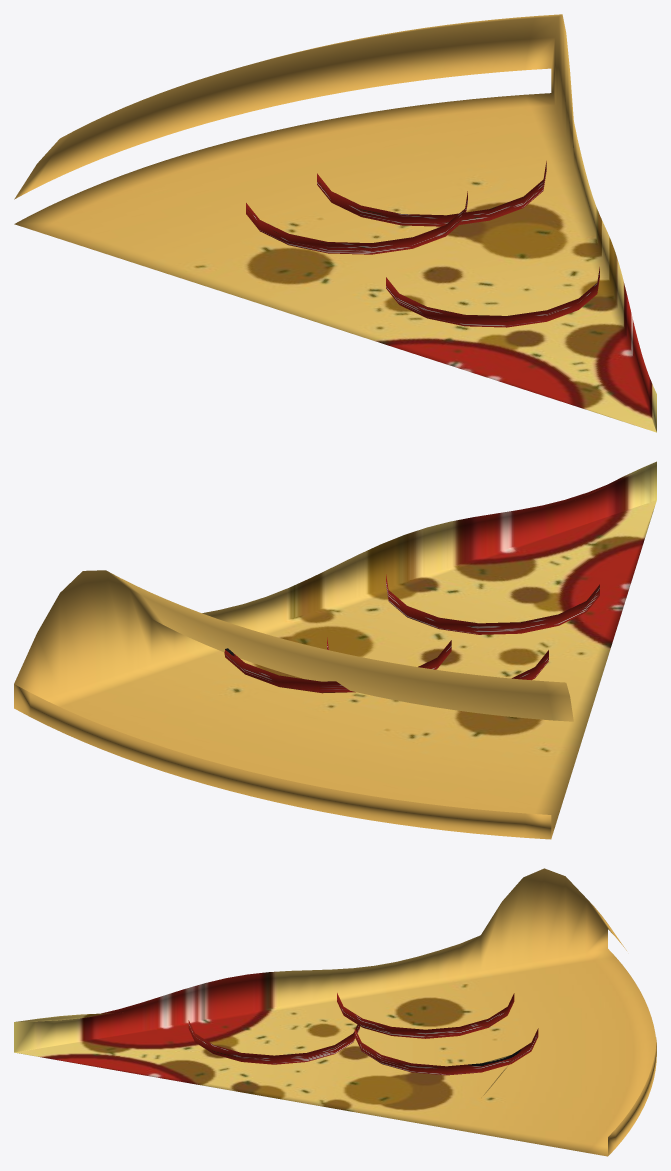
Rendered from pizza.glb.
3 renders of one model, top to bottom at view 1: azimuth 30°, elevation 25°; view 2: azimuth 150°, elevation 25°; view 3: azimuth 270°, elevation 25°, orthographic. The views are drawn at different scales.
Parts seen in each view (by area): view 1: PizzaSlice; view 2: PizzaSlice; view 3: PizzaSlice.
Part boxes in pixels (left/top/right/bottom): PizzaSlice: left=14, top=14, right=656, bottom=432; PizzaSlice: left=14, top=461, right=656, bottom=839; PizzaSlice: left=14, top=868, right=656, bottom=1156.
Bounding box in the file's own units: 1.61 × 0.3293 × 2.1.
Materials: 1 (1 with a texture image).
